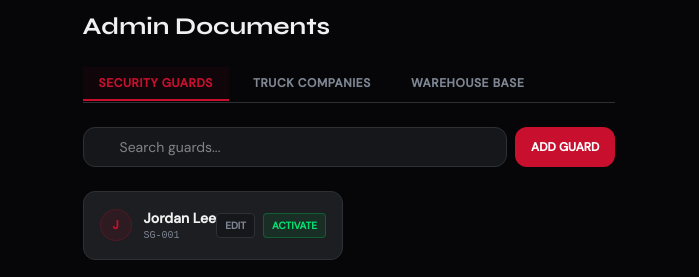
Test: DocumentsView realtime master data › subscribes to the MySQL-backed guard and truck company topics and cleans up
Expected: the text "Jordan Lee" is shown, [144,208,216,228]
Step 1. Click the button "Truck Companies" → {"x": 312, "y": 84}, box [237,66,387,100]
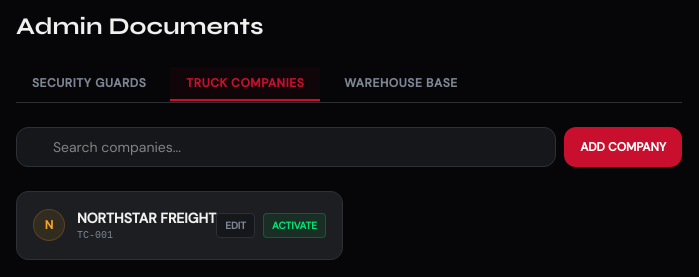
Expected: the text "Northstar Freight" is shown, [77,208,216,228]
